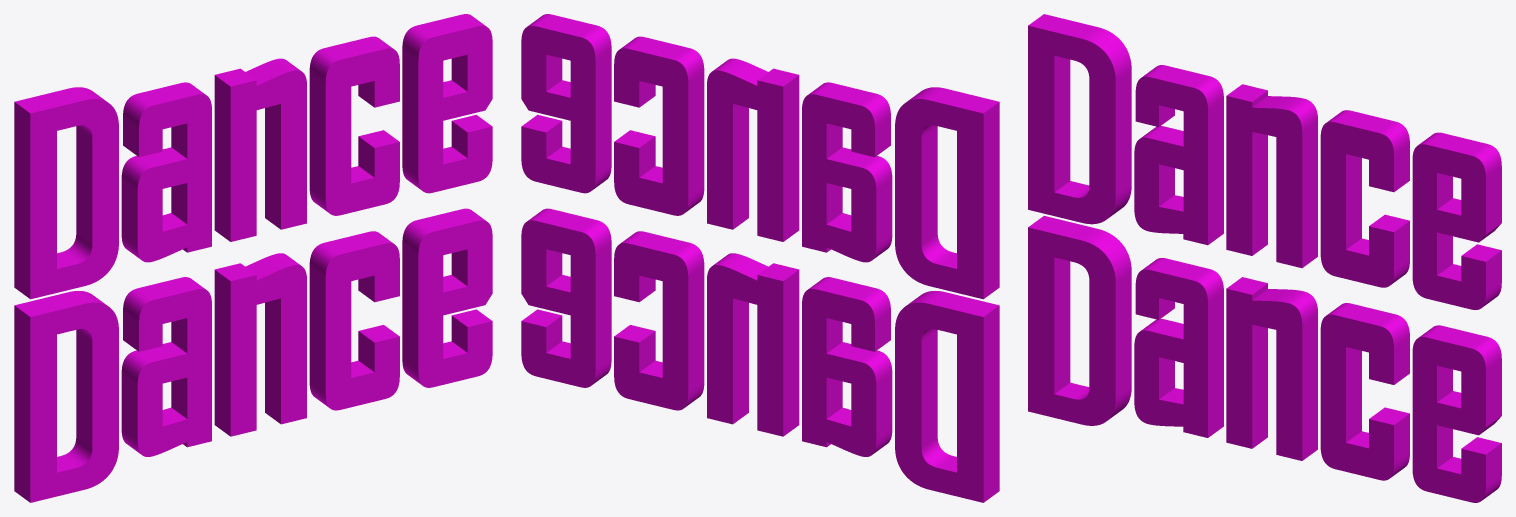
The model's file is DDD_Title1.fbx.
3 renders of one model, left to right at view 1: azimuth 30°, elevation 25°; view 2: azimuth 150°, elevation 25°; view 3: azimuth 330°, elevation 25°, orthographic.
Parts seen in each view (by area): view 1: Text; view 2: Text; view 3: Text.
Boxes of the visible parts, x1=… form: Text: x1=14, y1=14, x2=492, y2=502; Text: x1=521, y1=14, x2=999, y2=502; Text: x1=1028, y1=14, x2=1501, y2=502.
Bounding box in the file's own units: 1.66 × 1.38 × 0.1.
